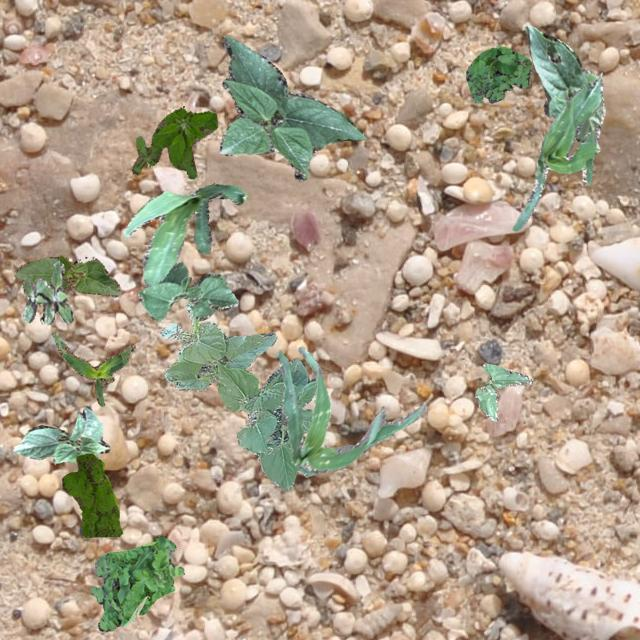crop: (160, 300, 316, 490), (218, 34, 366, 180), (276, 346, 426, 476), (512, 76, 602, 230), (122, 182, 245, 286), (524, 24, 604, 152), (50, 330, 134, 406), (136, 262, 238, 321), (12, 406, 108, 462), (14, 254, 120, 296), (474, 362, 530, 421)
weed: (90, 536, 182, 630), (130, 106, 217, 178), (60, 452, 121, 536), (464, 44, 530, 102), (22, 260, 72, 324)
